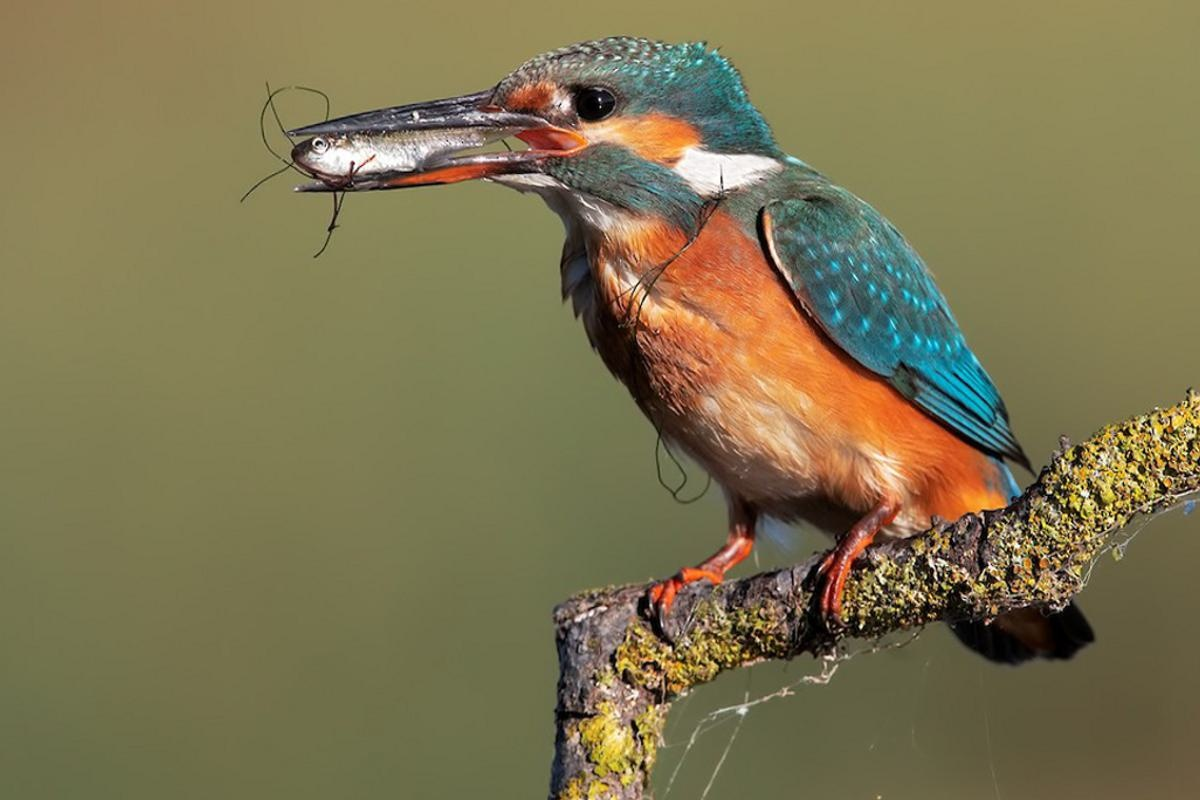kingfisher: (290, 23, 1123, 685)
